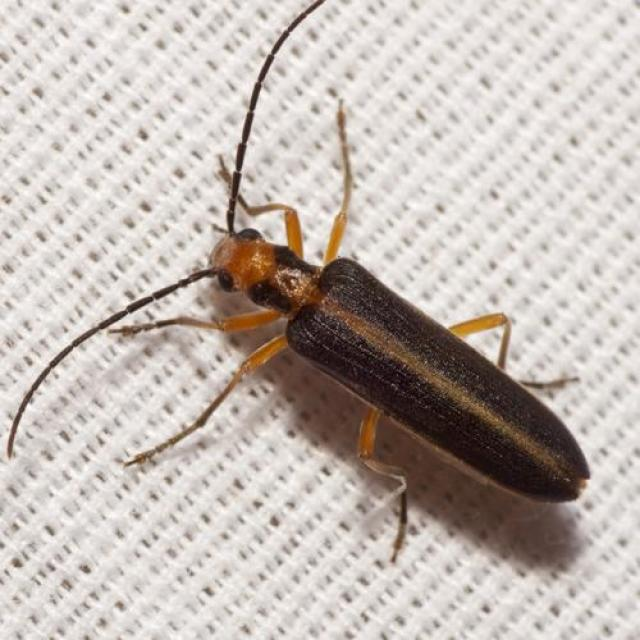BlisterBeetle-Adult-: (53, 10, 600, 564)
